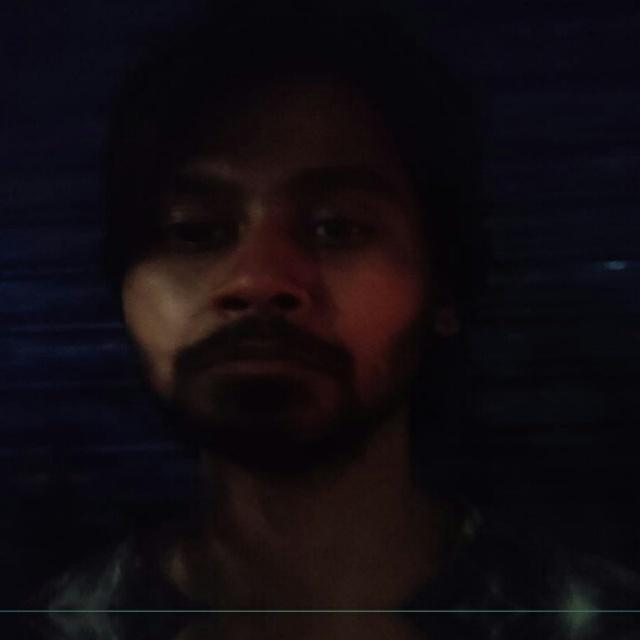sad: (107, 72, 443, 502)
